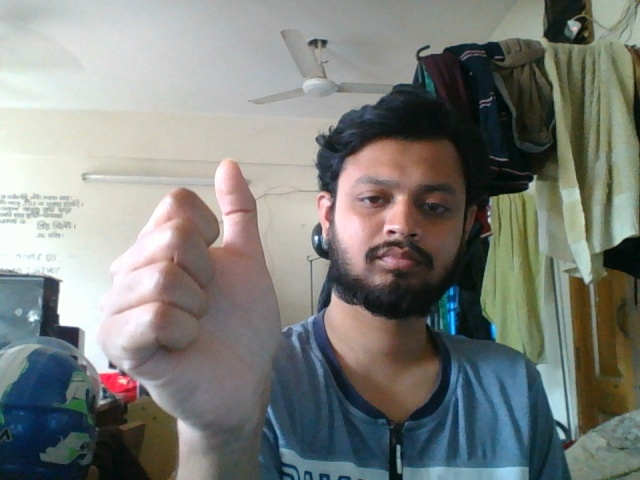dho: (93, 148, 287, 464)
